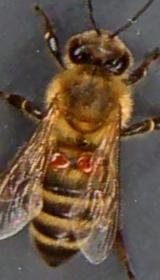varroa_mite: (70, 149, 95, 174), (46, 146, 70, 169)
